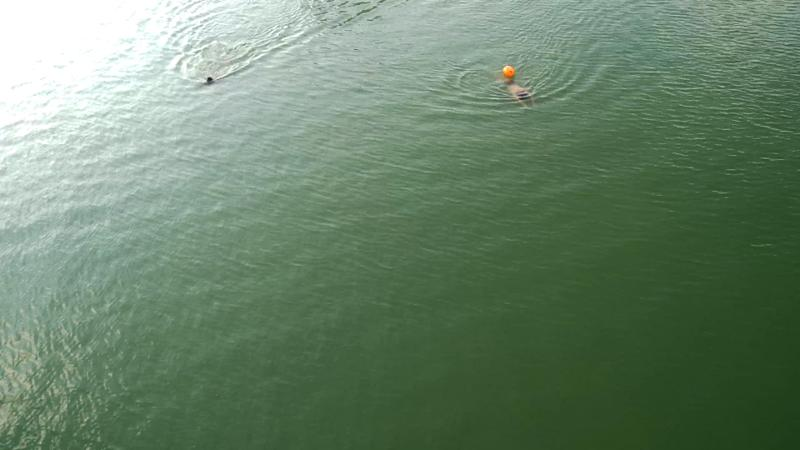swimmers: (495, 78, 536, 111)
